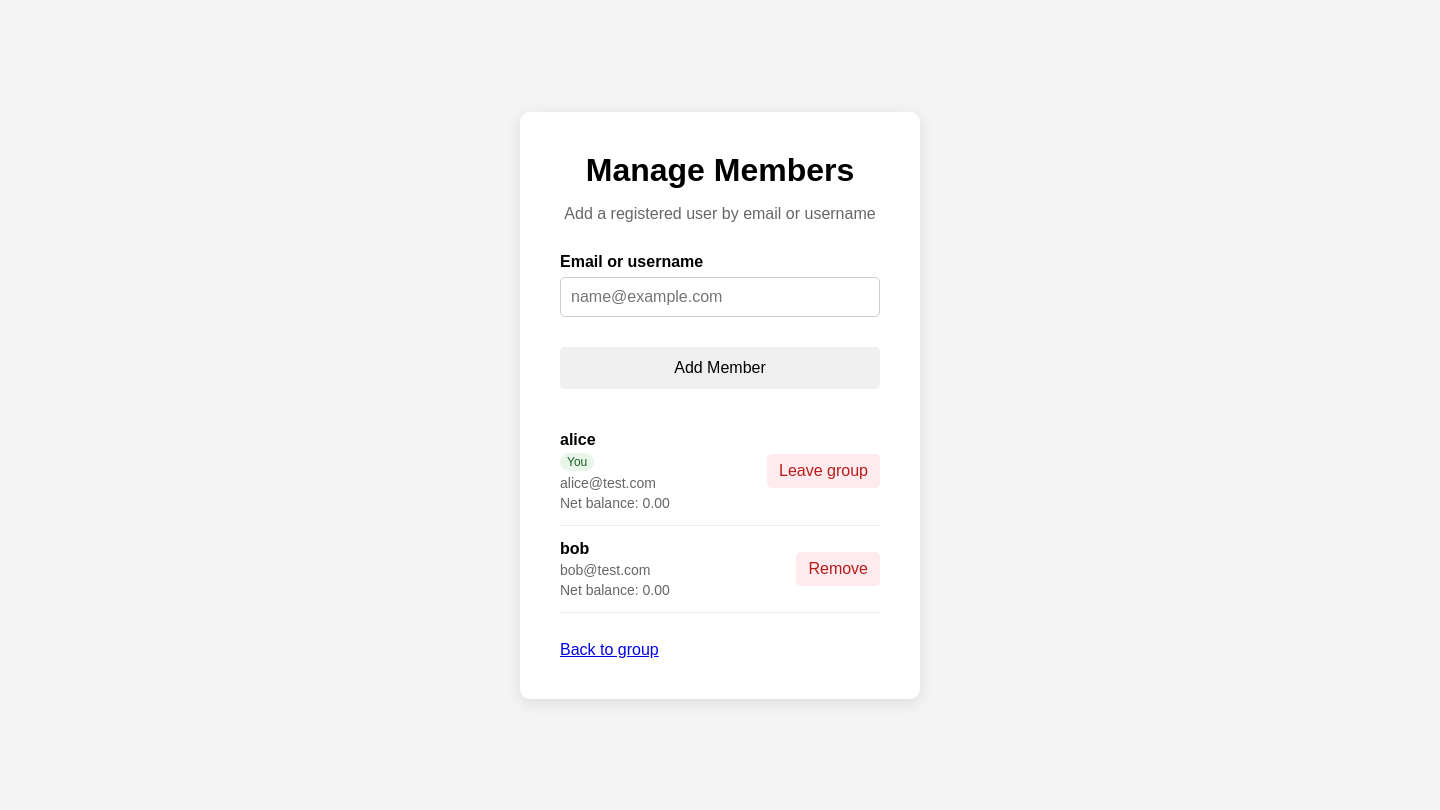
Test: keeps the member when removal is cancelled
Expected: the text "bob" is shown, [560, 540, 589, 556]
Step 1. Click the button "Remove" → (838, 568), box [796, 552, 880, 586]
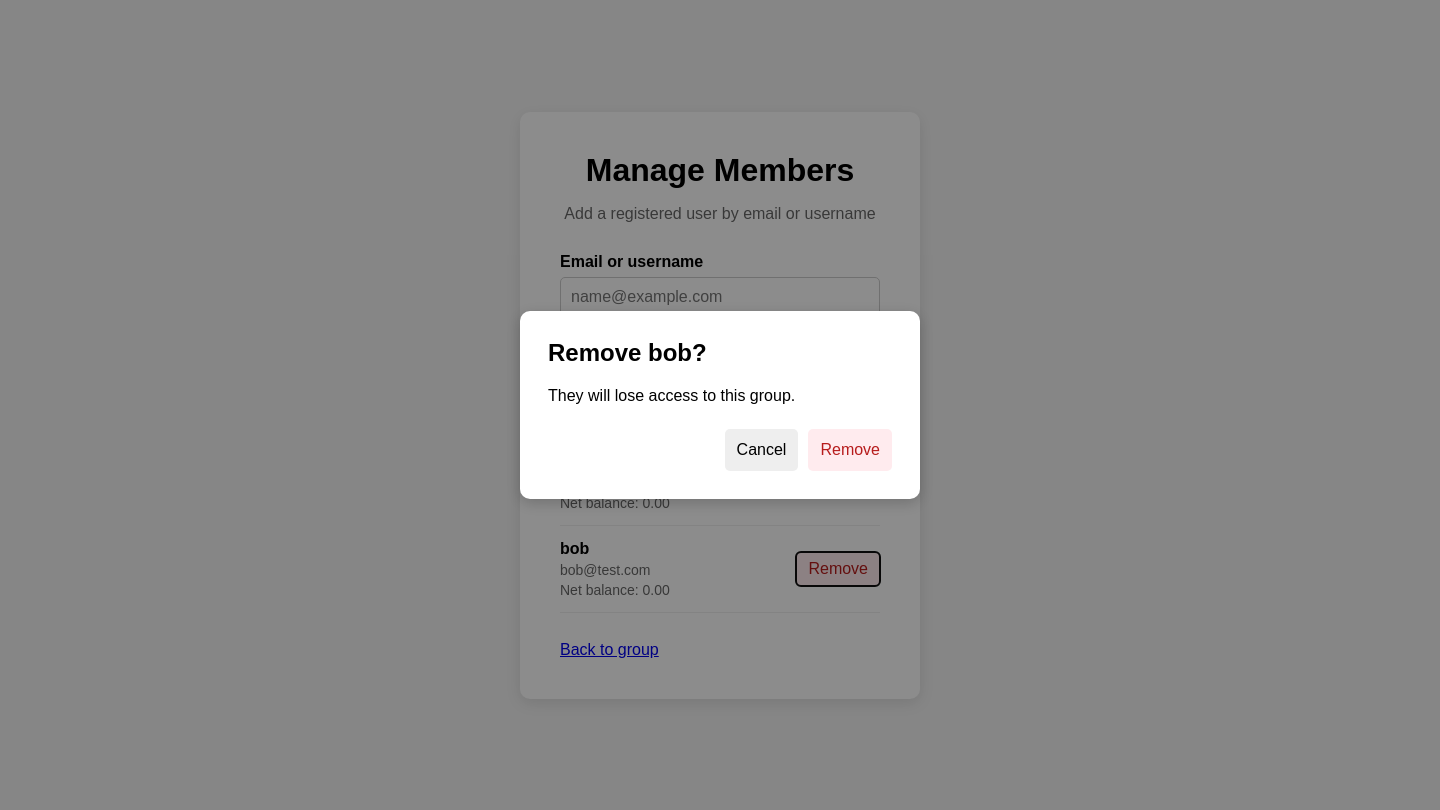
Step 2. Click the button "Cancel" → (762, 450), box [725, 429, 798, 471]
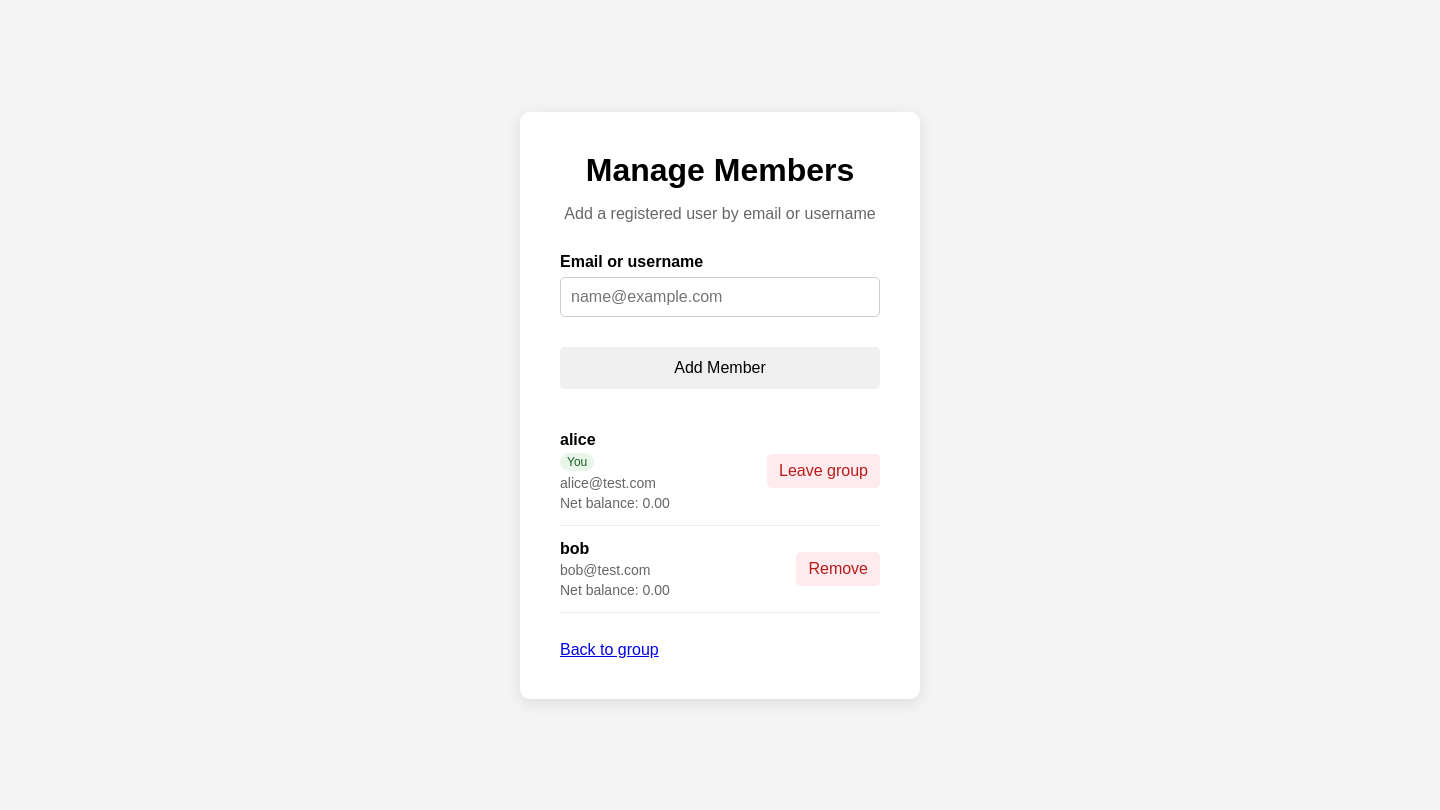
Expected: the text "bob" is shown, [560, 540, 589, 556]
Expected: the dialog is gone
